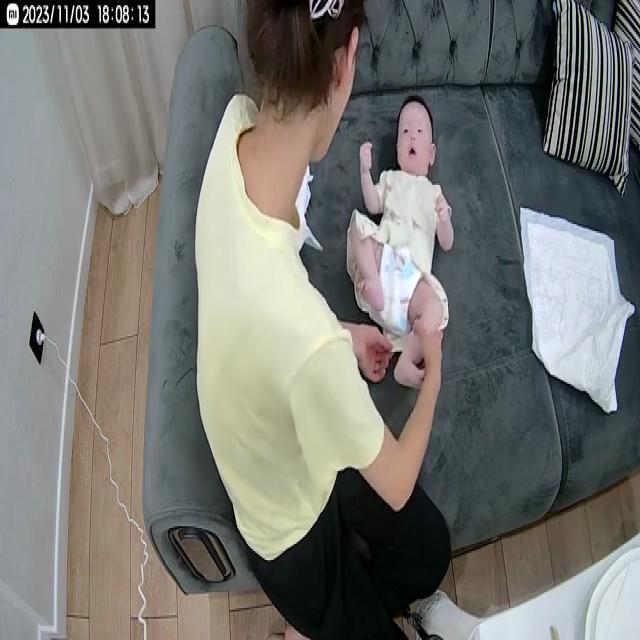baby: (349, 85, 460, 402)
